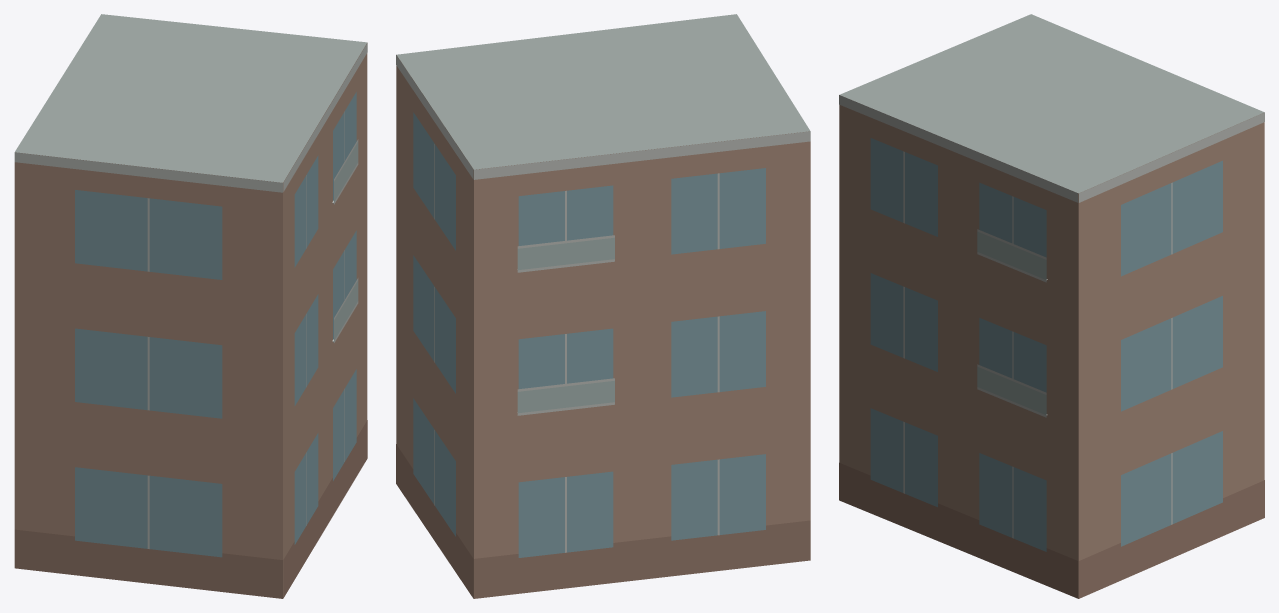
File: survey-upis-32776685.glb
3 views of the same model, side by side, from view 1: azimuth 30°, elevation 25°; view 2: azimuth 150°, elevation 25°; view 3: azimuth 270°, elevation 25° (orthographic). The views are drawn at different scales.
Visible parts, largest first — view 1: survey-upis-32776685.tmp; view 2: survey-upis-32776685.tmp; view 3: survey-upis-32776685.tmp.
Boxes of the visible parts, left/top/right/bottom form: survey-upis-32776685.tmp: left=14, top=14, right=367, bottom=598; survey-upis-32776685.tmp: left=396, top=14, right=810, bottom=598; survey-upis-32776685.tmp: left=839, top=14, right=1264, bottom=598.
Size of the model in its own units: 9.69 by 10.2 by 9.71.
